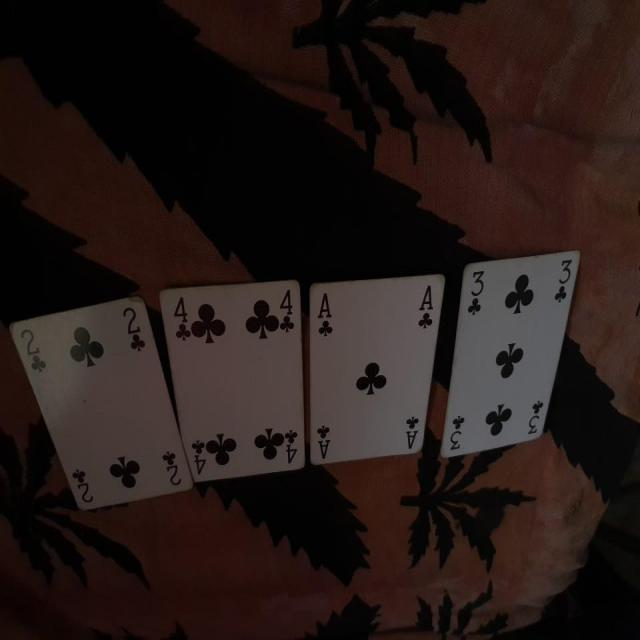2 Trefoils: (10, 296, 195, 511)
3 Trefoils: (436, 248, 581, 459)
4 Trefoils: (158, 276, 308, 484)
A Trefoils: (307, 271, 447, 464)
